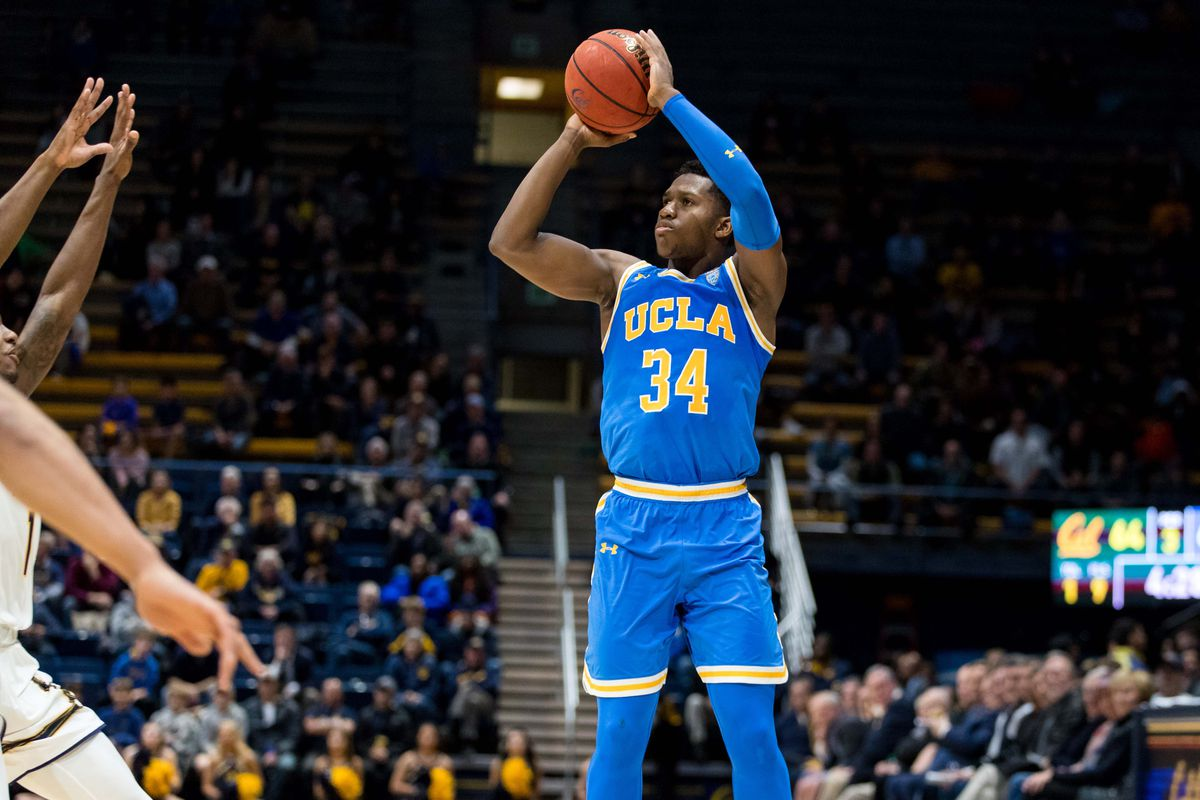ball: (550, 17, 682, 151)
shoot: (467, 15, 837, 800)
